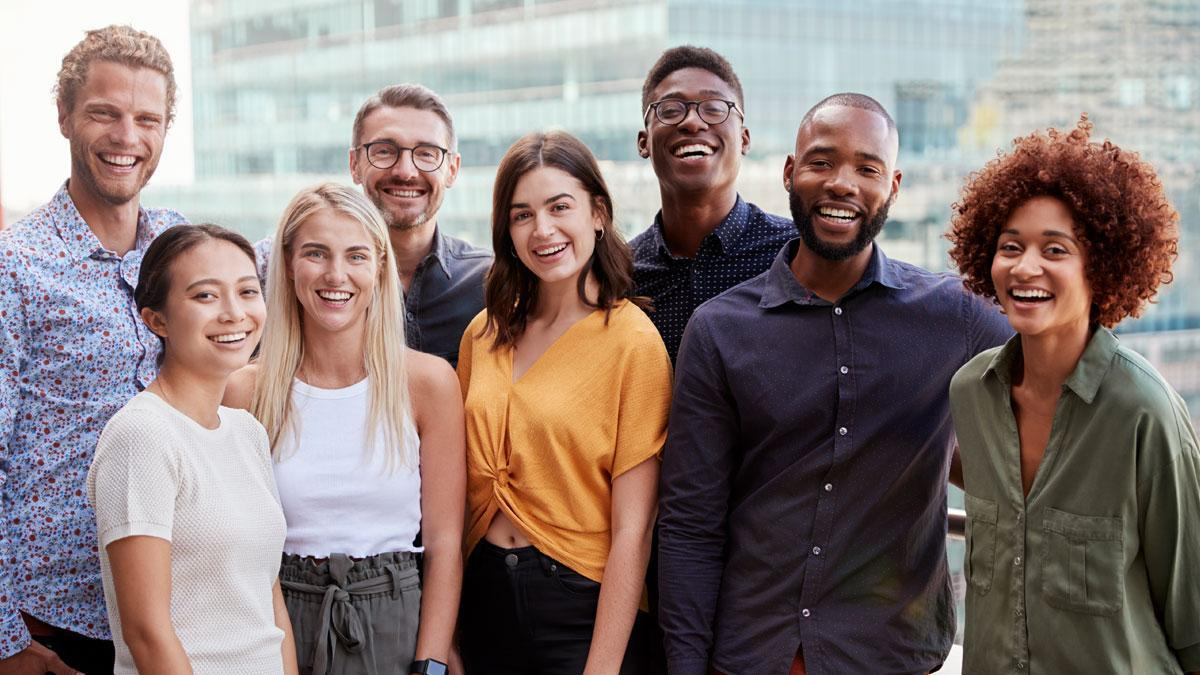Persons: (951, 105, 1156, 357), (256, 159, 429, 404), (609, 27, 791, 225), (143, 191, 282, 443), (767, 83, 926, 298), (49, 22, 204, 236), (483, 112, 619, 329), (348, 69, 464, 246)
